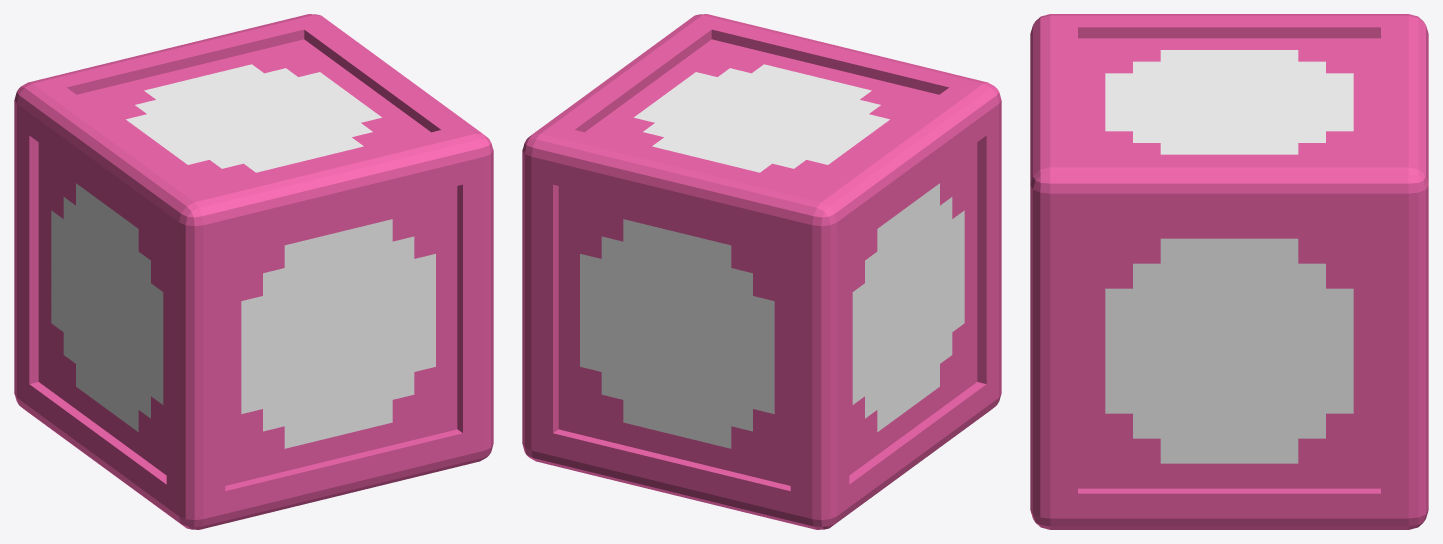
Rendered from Rocket.fbx.
3 renders of one model, left to right at view 1: azimuth 30°, elevation 25°; view 2: azimuth 150°, elevation 25°; view 3: azimuth 270°, elevation 25°, orthographic. The views are drawn at different scales.
Parts seen in each view (by area): view 1: Cube; view 2: Cube; view 3: Cube.
Part boxes in pixels (x1,y1,x2,y2): Cube: (14, 14, 493, 529); Cube: (522, 14, 1001, 529); Cube: (1030, 14, 1428, 529).
Bounding box in the file's own units: 1 × 1 × 1.
